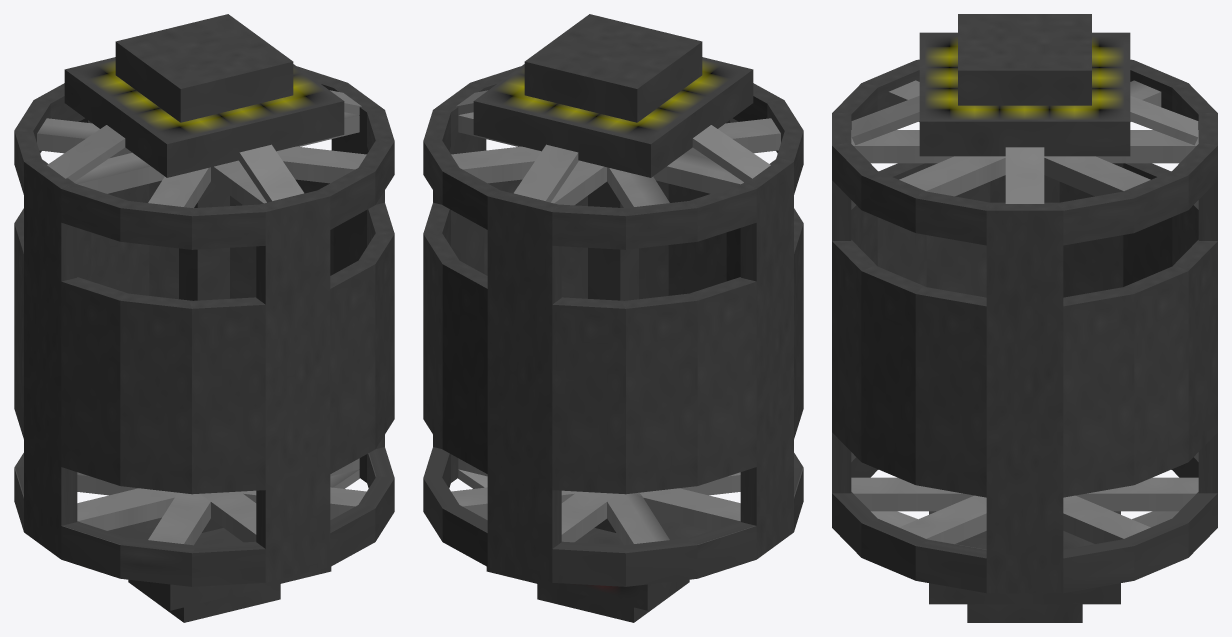
File: turbine.obj
3 renders of one model, left to right at view 1: azimuth 30°, elevation 25°; view 2: azimuth 150°, elevation 25°; view 3: azimuth 270°, elevation 25°, orthographic. The views are drawn at different scales.
Parts seen in each view (by area): view 1: hexadecagon, cube; view 2: hexadecagon, cube; view 3: hexadecagon, cube.
Part boxes in pixels (<box>): hexadecagon: <box>14,66,394,586</box>; cube: <box>37,14,366,622</box>; hexadecagon: <box>423,66,803,586</box>; cube: <box>451,14,780,622</box>; hexadecagon: <box>832,59,1217,593</box>; cube: <box>851,14,1198,622</box>.
Bounding box in the file's own units: 10.05 × 16 × 10.05.
